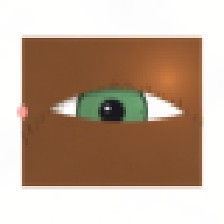pinguecula_lesion: (26, 102, 72, 139)
